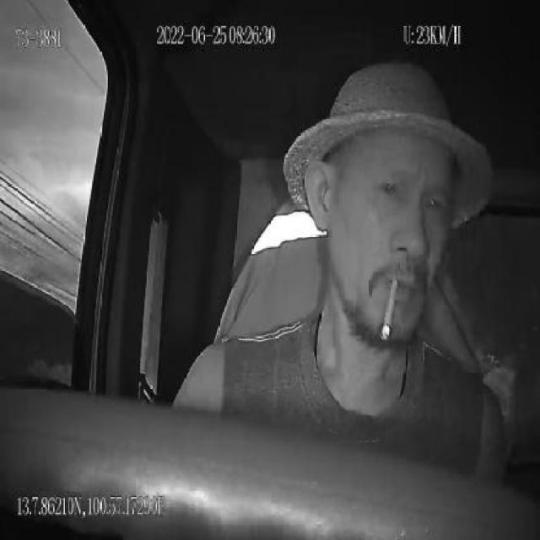smoking: (382, 278, 398, 342)
